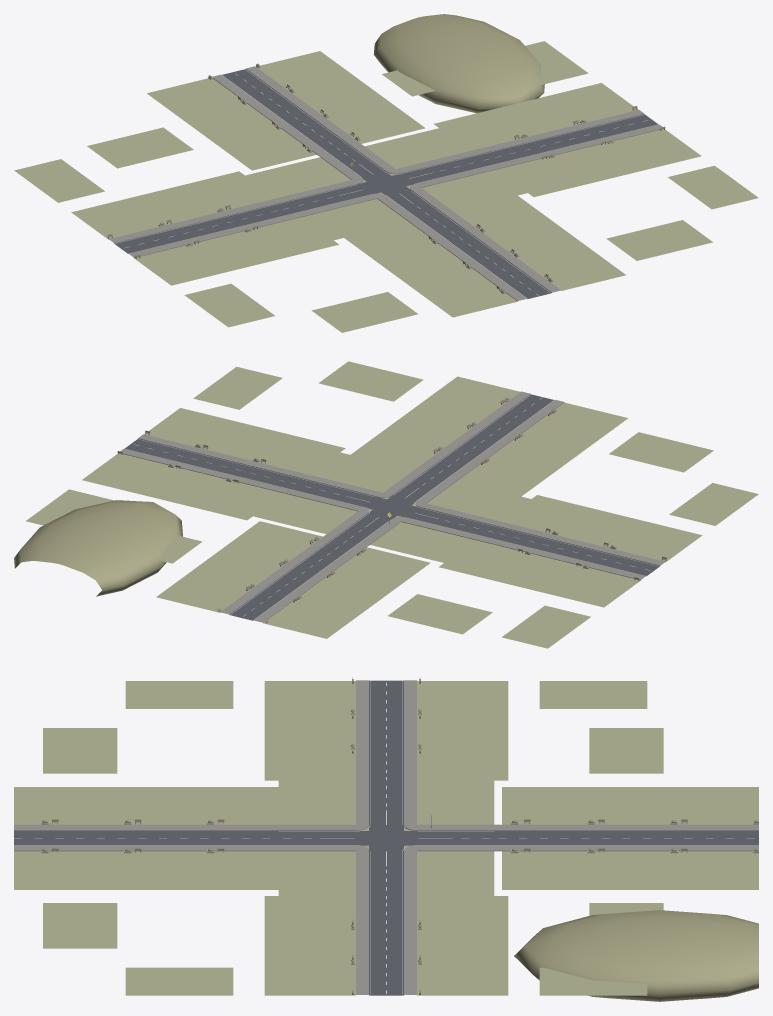
3 views of the same model, one above another, from view 1: azimuth 30°, elevation 25°; view 2: azimuth 150°, elevation 25°; view 3: azimuth 270°, elevation 25° (orthographic). The views are drawn at different scales.
Visible parts, largest first — view 1: static; view 2: static; view 3: static.
Boxes of the visible parts, x1,y1,x2,y2 form: static: (14,14,758,332); static: (14,361,758,648); static: (14,677,758,1001).
Size of what is drawn, in the model's own units: 180 by 14.08 by 180.
Materials: 3 (2 with a texture image).
